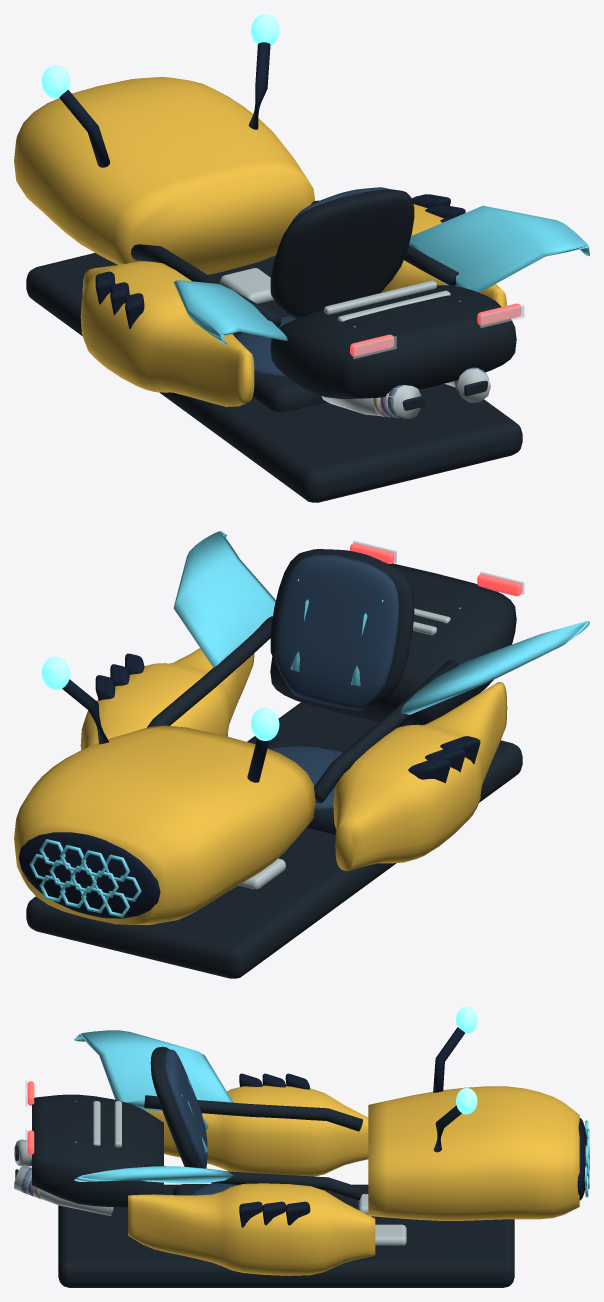
Rendered from zuri_volt.glb.
The picture shows the model from 3 angles, top to bottom: view 1: azimuth 30°, elevation 25°; view 2: azimuth 150°, elevation 25°; view 3: azimuth 270°, elevation 25°; orthographic projection. The views are drawn at different scales.
Visible parts, largest first — view 1: LOD0, ShowroomDetail; view 2: LOD0; view 3: LOD0, ShowroomDetail.
Part boxes in pixels (box(x1,y1,x2,y2)): LOD0: box(14, 14, 589, 502); ShowroomDetail: box(353, 305, 524, 418); LOD0: box(14, 531, 589, 978); LOD0: box(14, 1007, 589, 1287); ShowroomDetail: box(21, 1062, 182, 1198).
Size of what is drawn, in the model's own units: 1.4 by 0.923 by 2.4.
